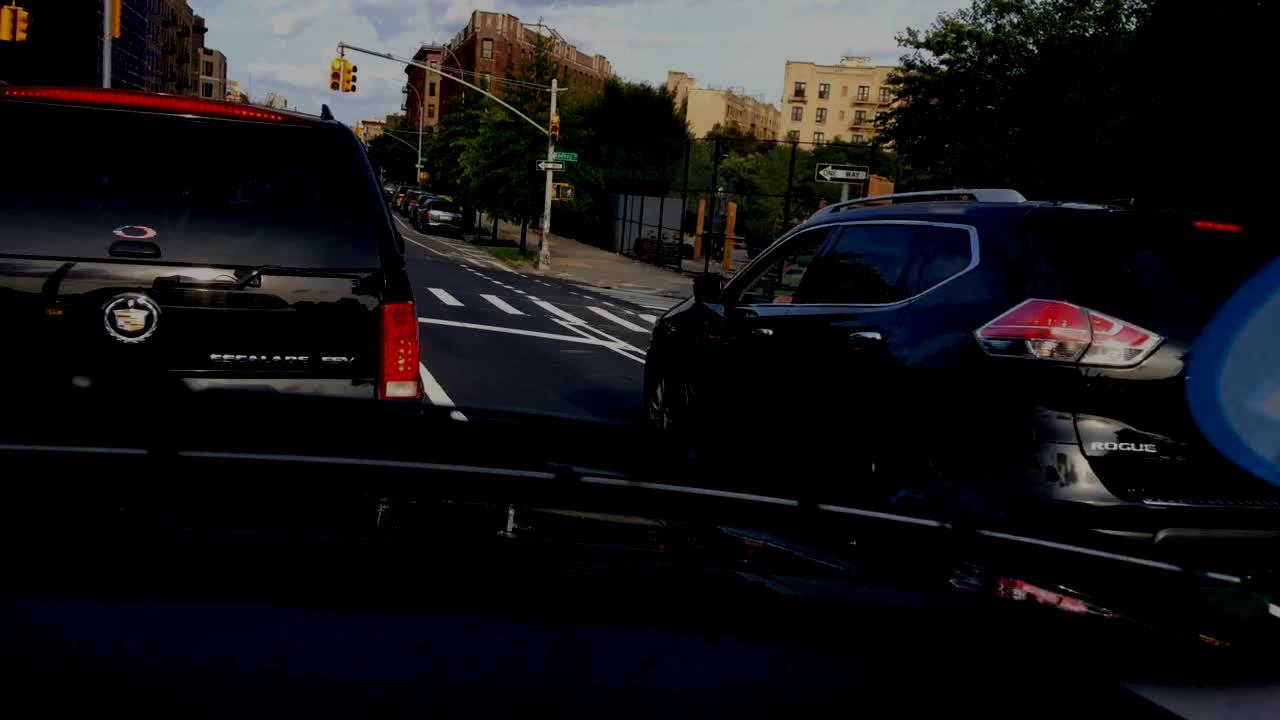cadillac: (89, 287, 177, 350)
